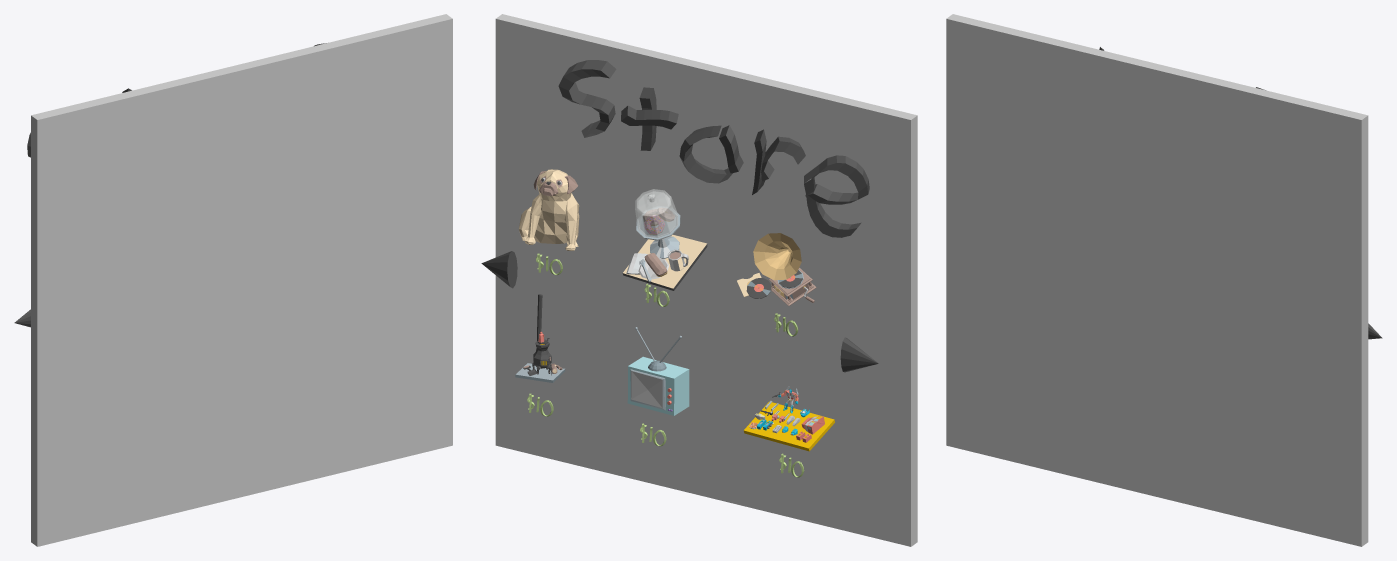
File: store.glb
3 renders of one model, left to right at view 1: azimuth 30°, elevation 25°; view 2: azimuth 150°, elevation 25°; view 3: azimuth 330°, elevation 25°, orthographic.
Visible parts, largest first — view 1: group864140901; view 2: group864140901, group1744824729, group325314621, group482824623, group49215968, group2129849258, group202214429, group2017967255, group1247890699, group471299663, group559451753, group465743485 (+3 smaller); view 3: group864140901.
Part boxes in pixels (<box>): group864140901: <box>31,14,452,546</box>; group864140901: <box>495,14,917,546</box>; group1744824729: <box>622,189,707,290</box>; group325314621: <box>518,169,579,250</box>; group482824623: <box>737,233,816,305</box>; group49215968: <box>627,327,689,415</box>; group2129849258: <box>743,386,834,451</box>; group202214429: <box>804,155,869,237</box>; group2017967255: <box>558,60,616,137</box>; group1247890699: <box>679,125,743,183</box>; group471299663: <box>752,129,805,194</box>; group559451753: <box>515,294,565,382</box>; group465743485: <box>621,105,678,129</box>; group864140901: <box>946,14,1368,546</box>.
Bounding box in the file's own units: 1.1 × 1.08 × 0.1798.
